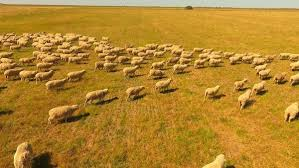sheep: (13, 137, 36, 167), (49, 102, 79, 123), (85, 87, 110, 107), (125, 85, 148, 101), (44, 77, 70, 90), (238, 88, 252, 111), (285, 98, 298, 122), (155, 78, 174, 94), (204, 84, 221, 101), (3, 67, 25, 80), (122, 64, 142, 78), (18, 69, 38, 81), (67, 69, 87, 81), (234, 78, 249, 92), (273, 71, 287, 84), (1, 60, 17, 71), (173, 63, 190, 73), (165, 54, 179, 66), (254, 79, 264, 95), (68, 55, 84, 65), (255, 62, 269, 73), (104, 62, 119, 72), (194, 59, 207, 69), (118, 54, 131, 64), (1, 49, 14, 59), (37, 62, 53, 70), (19, 56, 35, 64), (210, 58, 223, 67), (259, 69, 271, 78), (154, 49, 166, 57), (104, 55, 117, 62), (192, 46, 203, 54), (228, 57, 241, 63)
